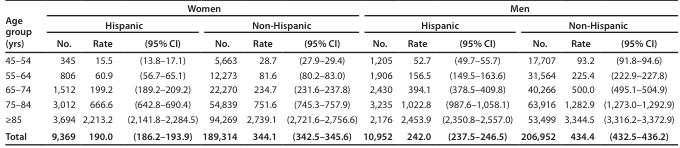table: (4, 3, 673, 141)
table column: (435, 3, 516, 141), (119, 3, 199, 141), (280, 3, 359, 141), (598, 3, 673, 141), (516, 3, 559, 141), (199, 3, 241, 141), (78, 3, 119, 141), (395, 3, 435, 141), (241, 3, 280, 141), (559, 3, 598, 141), (40, 3, 78, 141), (4, 3, 40, 141), (359, 3, 395, 141)
table column header: (4, 3, 673, 51)
table row: (4, 16, 673, 34), (4, 34, 673, 51), (4, 51, 673, 67), (4, 111, 673, 127), (4, 67, 673, 82), (4, 82, 673, 97), (4, 97, 673, 111), (4, 127, 673, 141), (4, 3, 673, 16)
table spanning cell: (40, 3, 359, 16), (359, 3, 673, 16), (199, 16, 359, 34), (40, 16, 199, 34), (359, 16, 516, 34), (516, 16, 673, 34), (4, 3, 40, 51)
